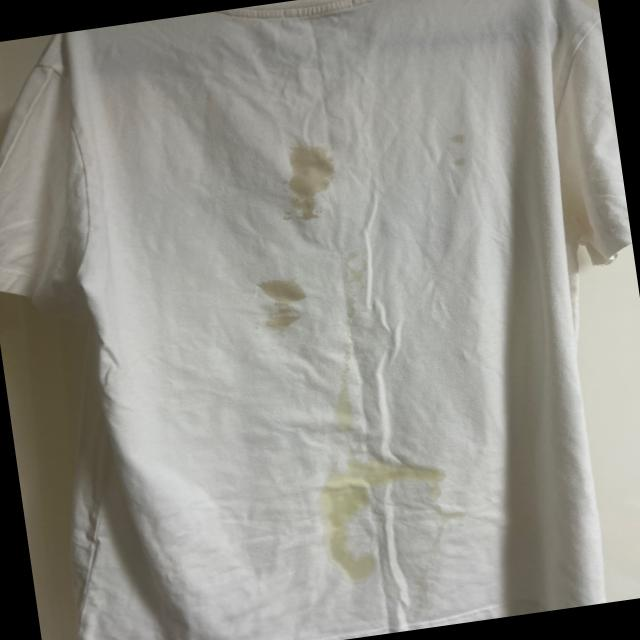stain: (319, 490, 398, 588), (324, 451, 446, 501), (277, 134, 334, 222), (250, 275, 314, 336), (331, 377, 368, 438), (443, 128, 474, 169)
